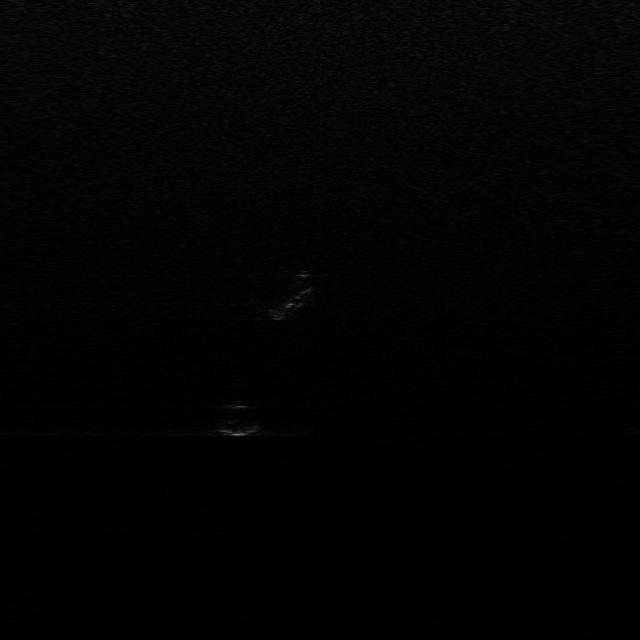ball: (214, 402, 264, 434)
tyre: (276, 277, 316, 325)
